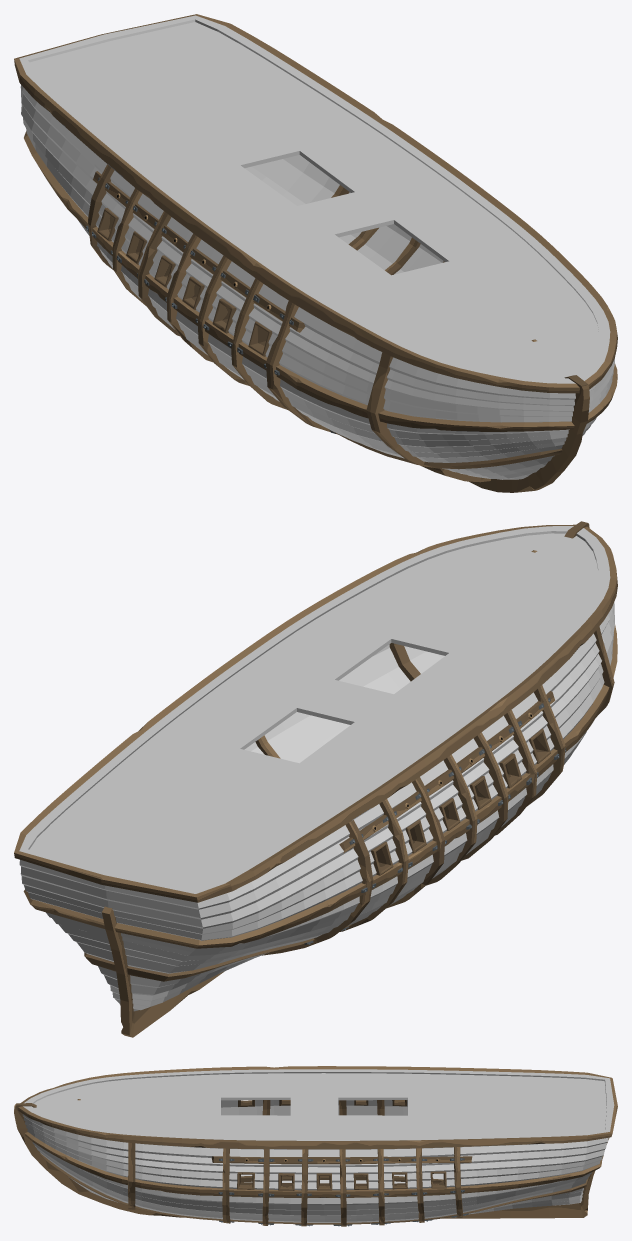
File: SM_Veh_Ship_L_Hull_01.fbx
3 views of the same model, one above another, from view 1: azimuth 30°, elevation 25°; view 2: azimuth 150°, elevation 25°; view 3: azimuth 270°, elevation 25° (orthographic). The views are drawn at different scales.
Visible parts, largest first — view 1: SM_Veh_Ship_L_Hull_01; view 2: SM_Veh_Ship_L_Hull_01; view 3: SM_Veh_Ship_L_Hull_01.
Boxes of the visible parts, x1,y1,x2,y2 form: SM_Veh_Ship_L_Hull_01: (14,14,617,492); SM_Veh_Ship_L_Hull_01: (14,521,617,1037); SM_Veh_Ship_L_Hull_01: (14,1066,617,1226).
Size of the model in its own units: 1332 by 790 by 3649.
